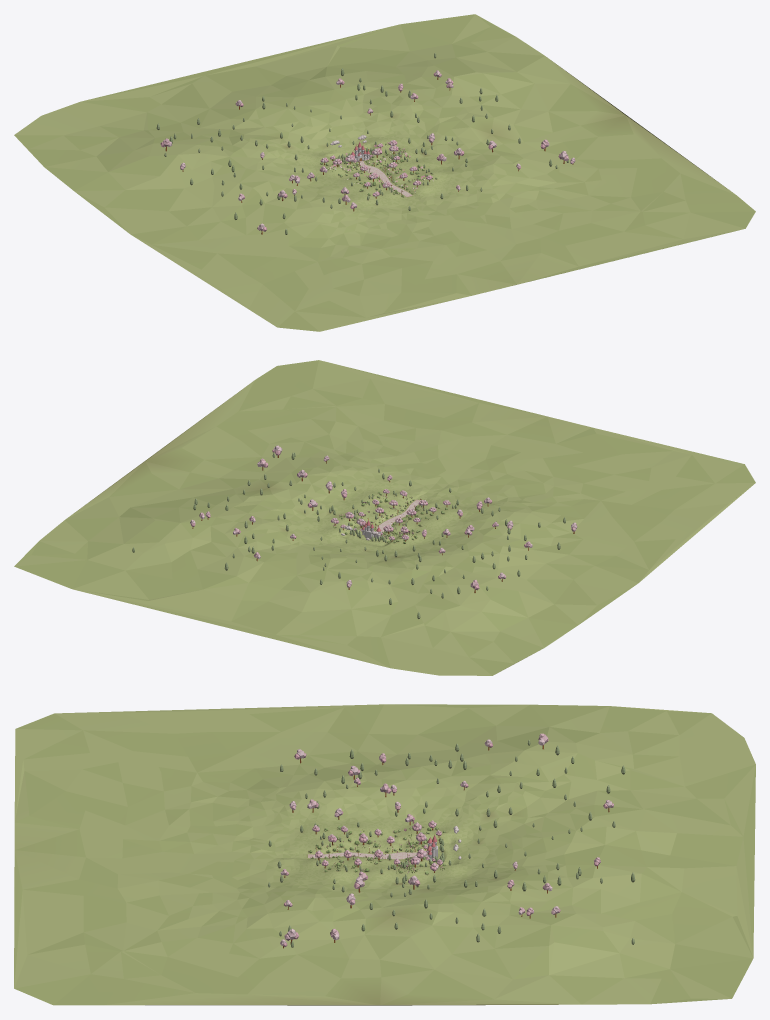
File: garden-low.glb
3 renders of one model, top to bottom at view 1: azimuth 30°, elevation 25°; view 2: azimuth 150°, elevation 25°; view 3: azimuth 270°, elevation 25°, orthographic. The views are drawn at different scales.
Visible parts, largest first — view 1: W_Ground, W_Trees; view 2: W_Ground, W_Trees; view 3: W_Ground, W_Trees.
Part boxes in pixels (left/top/right/bottom): W_Ground: left=14, top=14, right=755, bottom=331; W_Trees: left=156, top=53, right=575, bottom=234; W_Ground: left=14, top=360, right=755, bottom=675; W_Trees: left=132, top=445, right=577, bottom=618; W_Ground: left=14, top=704, right=755, bottom=1005; W_Trees: left=268, top=733, right=635, bottom=948.
Size of the model in its own units: 392 by 19.73 by 408.
